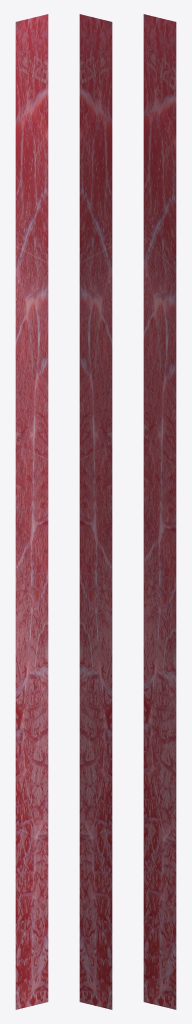
The model's file is SoftTape.OBJ.
The picture shows the model from 3 angles, left to right: view 1: azimuth 30°, elevation 25°; view 2: azimuth 150°, elevation 25°; view 3: azimuth 330°, elevation 25°; orthographic projection.
Visible parts, largest first — view 1: SoftTape_SoftTape_Plane_SoftTape_Plane.001; view 2: SoftTape_SoftTape_Plane_SoftTape_Plane.001; view 3: SoftTape_SoftTape_Plane_SoftTape_Plane.001.
Boxes of the visible parts, x1=… form: SoftTape_SoftTape_Plane_SoftTape_Plane.001: x1=15, y1=14, x2=48, y2=1009; SoftTape_SoftTape_Plane_SoftTape_Plane.001: x1=79, y1=14, x2=112, y2=1009; SoftTape_SoftTape_Plane_SoftTape_Plane.001: x1=143, y1=14, x2=176, y2=1009.
Size of the model in its own units: 0.0697 by 2 by 0.
